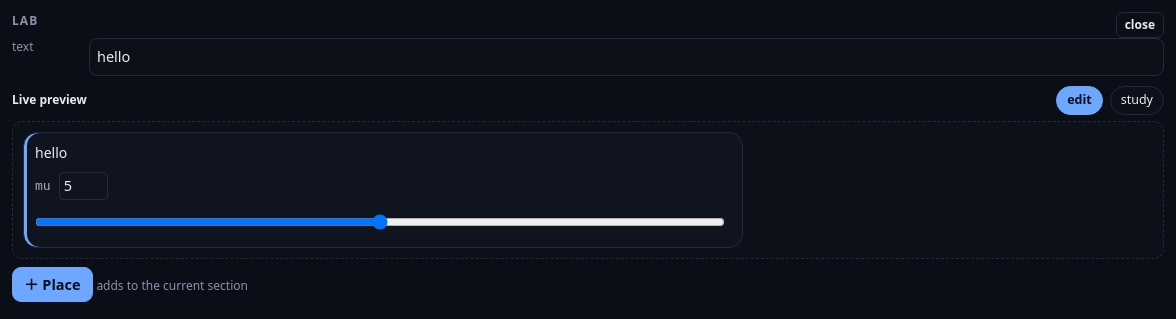
Scenario: ProductDetail › editing a draft input flows into the live preview
Step 1. Click the button "study" → coordinates (1137, 100), box [1110,86,1164,115]
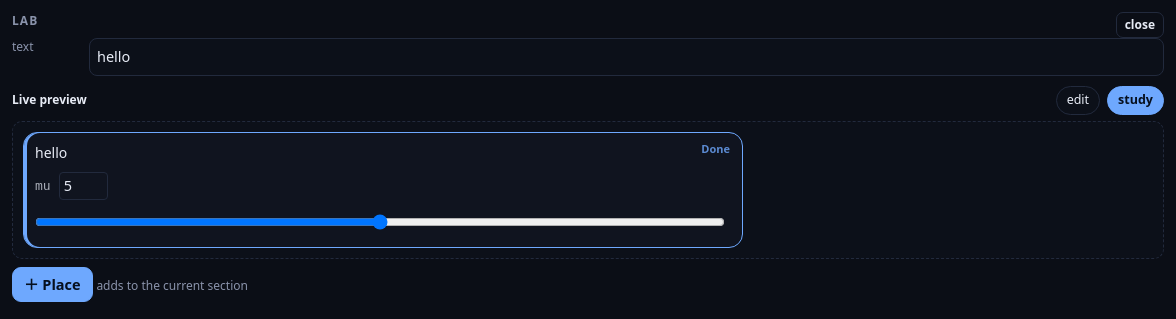
Step 2. Replace the text in the field with "goodbye world" → coordinates (626, 57), box [89,38,1164,76]
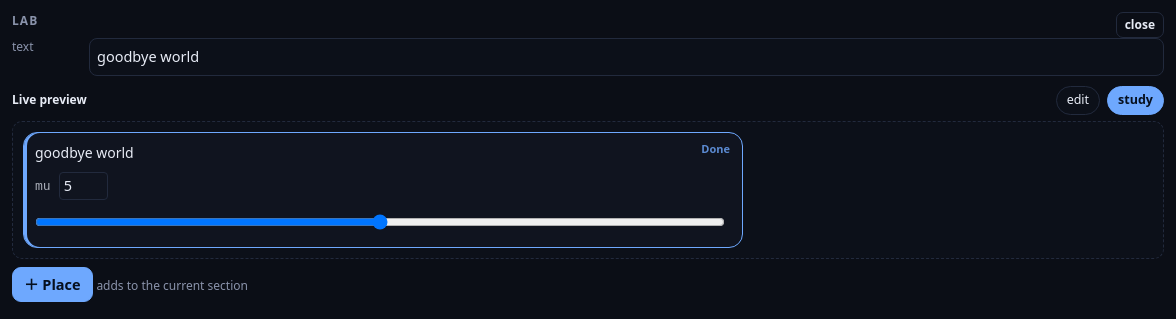
Expected: the element showing "Done goodbye world mu" is shown, [23,132,743,248]
